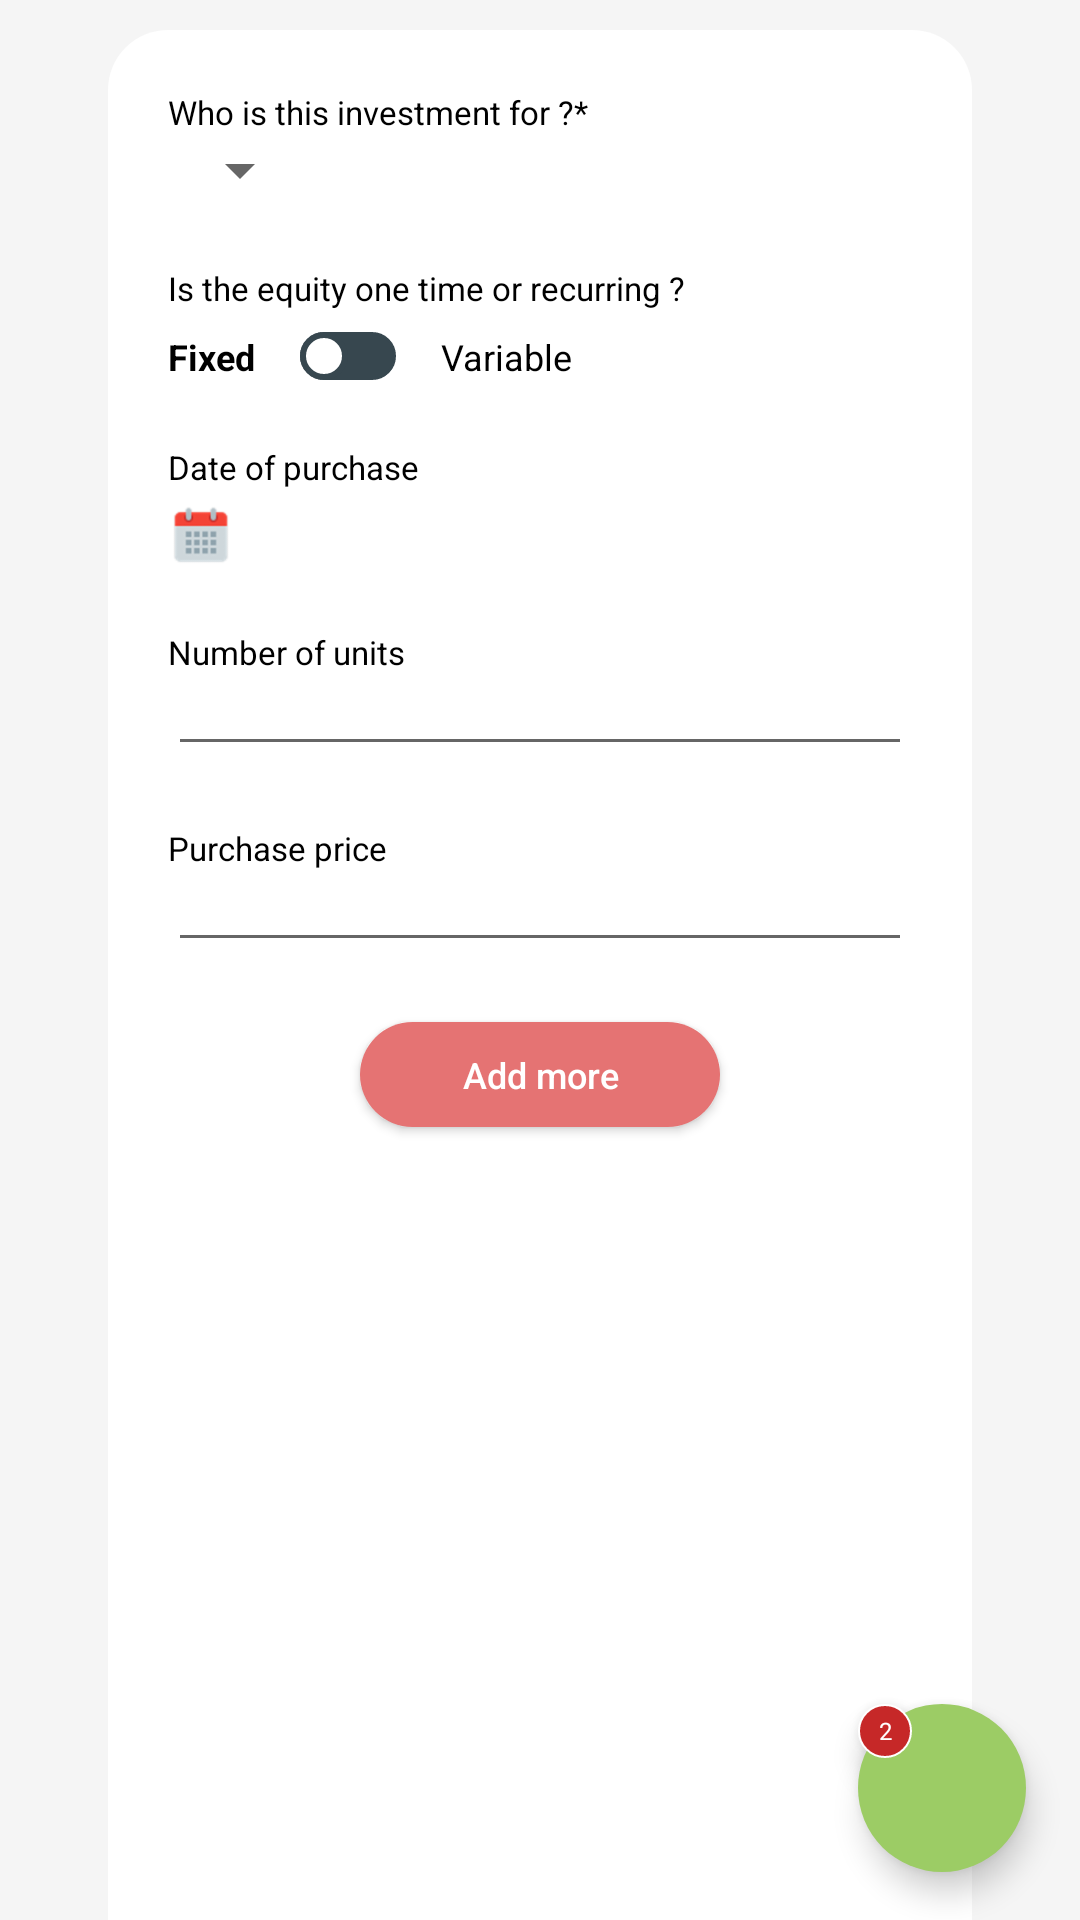

Where to tap for icons on this 1080 x 1920 app screen, as [x,y]:
calender: [201,535]
